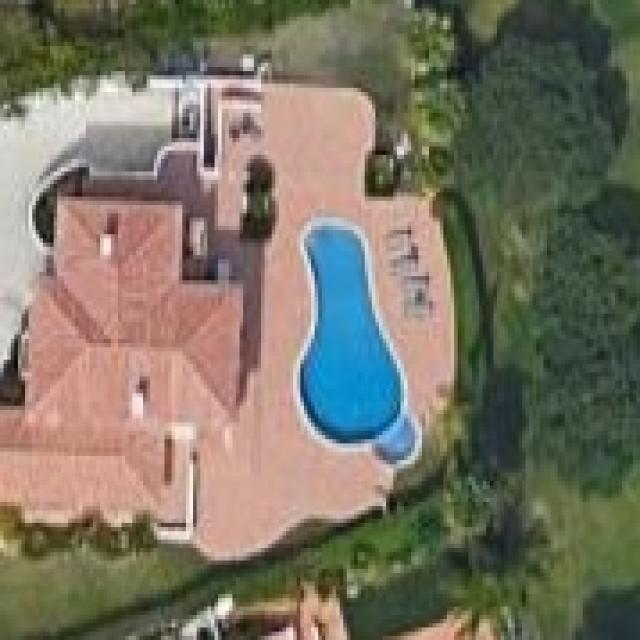pool: (283, 203, 445, 475)
